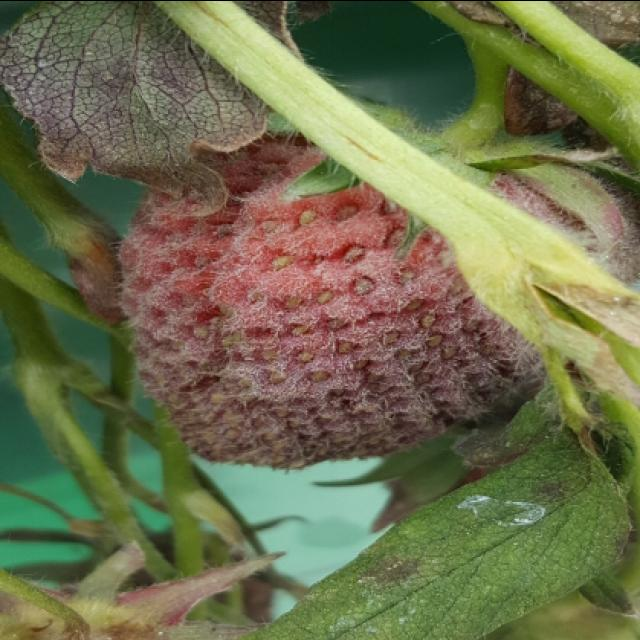Powdery Mildew Fruit: (119, 132, 638, 472)
